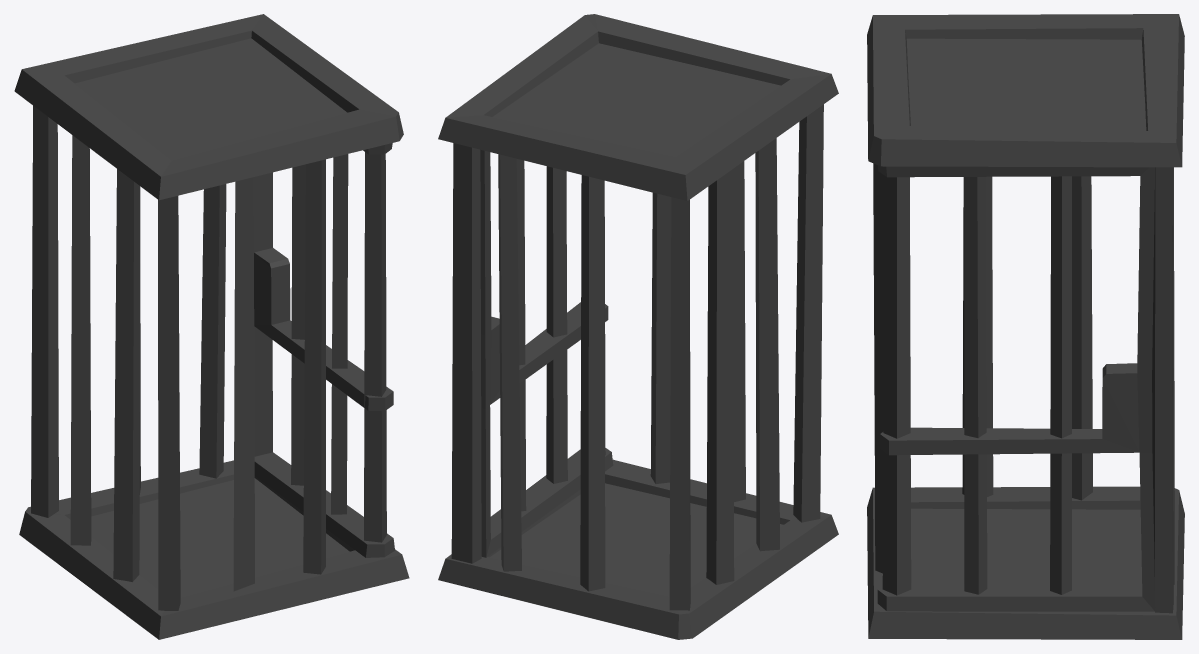
Rendered from Jail_Square.fbx.
3 views of the same model, side by side, from view 1: azimuth 30°, elevation 25°; view 2: azimuth 150°, elevation 25°; view 3: azimuth 270°, elevation 25° (orthographic). The views are drawn at different scales.
Parts seen in each view (by area): view 1: Jail_Square, Jail_Square_Door; view 2: Jail_Square, Jail_Square_Door; view 3: Jail_Square, Jail_Square_Door.
Boxes of the visible parts, x1,y1,x2,y2 form: Jail_Square: (14,14,409,639); Jail_Square_Door: (253,143,394,557); Jail_Square: (438,14,838,639); Jail_Square_Door: (480,149,613,557); Jail_Square: (867,14,1184,639); Jail_Square_Door: (877,165,1155,611).
Size of the model in its own units: 31.81 by 55.58 by 32.18.
